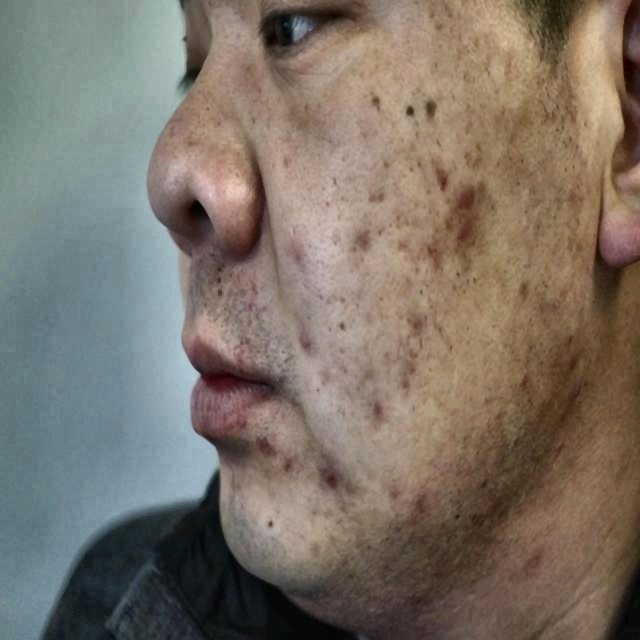pustule: (314, 454, 346, 501), (453, 174, 486, 209), (423, 234, 446, 278), (362, 392, 388, 429), (255, 420, 282, 454), (452, 218, 478, 248), (299, 314, 319, 349), (432, 158, 444, 184)
